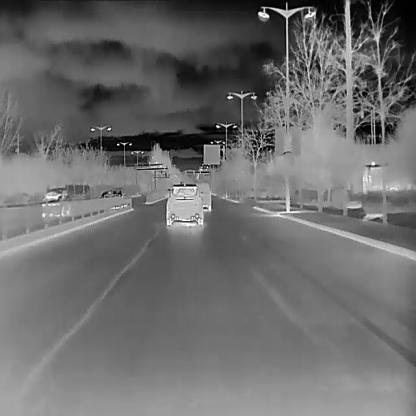car: (40, 184, 91, 219), (165, 182, 204, 225), (193, 182, 213, 211), (103, 186, 128, 208), (98, 189, 109, 198)
